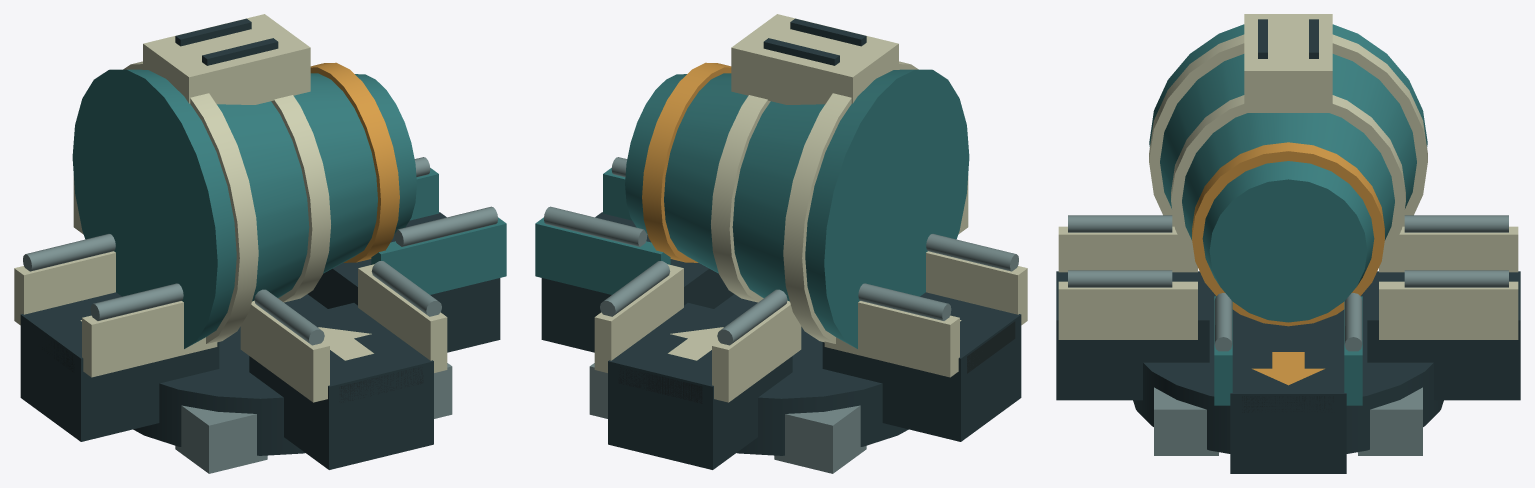
The model's file is merger.glb.
The picture shows the model from 3 angles, left to right: view 1: azimuth 30°, elevation 25°; view 2: azimuth 150°, elevation 25°; view 3: azimuth 270°, elevation 25°; orthographic projection. The views are drawn at different scales.
Visible parts, largest first — view 1: Batched static factory; view 2: Batched static factory; view 3: Batched static factory.
Boxes of the visible parts, x1,y1,x2,y2 form: Batched static factory: (14, 14, 506, 473); Batched static factory: (535, 14, 1027, 473); Batched static factory: (1056, 14, 1520, 473).
Bounding box in the file's own units: 1 × 0.8255 × 1.
